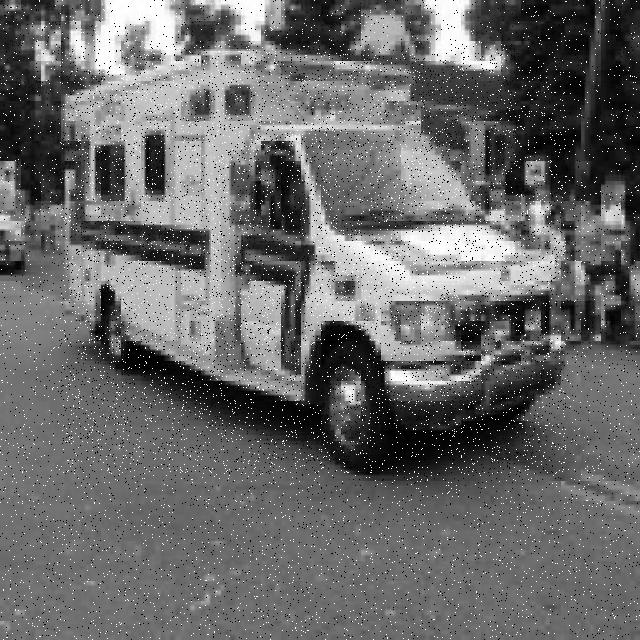Ambulance: (61, 46, 566, 474)
